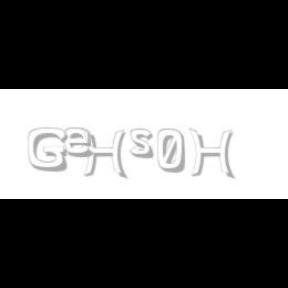0: (158, 128, 188, 174)
G: (28, 128, 68, 172)
H: (81, 128, 127, 180), (189, 128, 235, 180)
e: (64, 128, 98, 158)
s: (130, 128, 158, 160)
